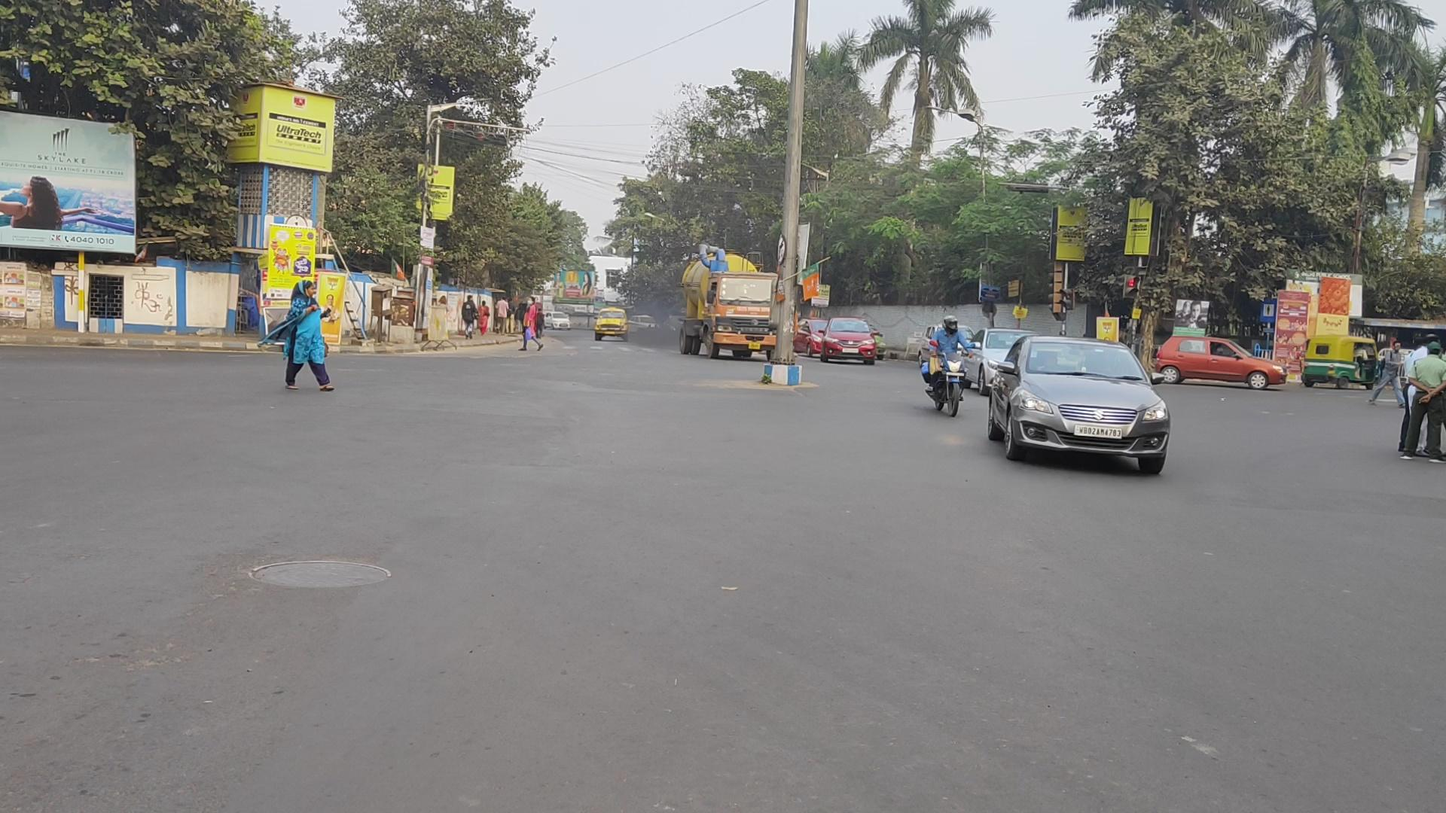Auto: (1400, 341, 1446, 464), (1301, 333, 1380, 391)
bike: (921, 315, 976, 417)
car: (989, 335, 1171, 477), (1155, 335, 1289, 390), (964, 327, 1047, 396), (818, 317, 879, 367), (795, 318, 839, 358), (594, 306, 628, 342), (628, 314, 660, 337), (544, 309, 573, 332)
truck: (679, 244, 793, 359)
